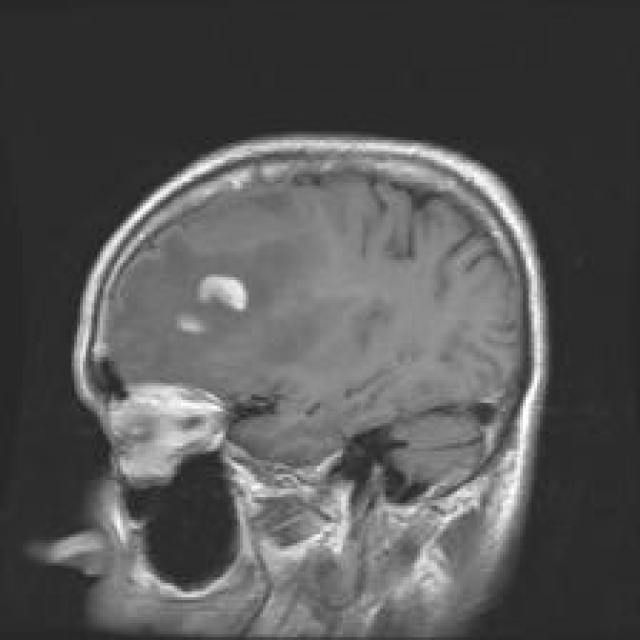glioma_tumor: (153, 258, 266, 374)
